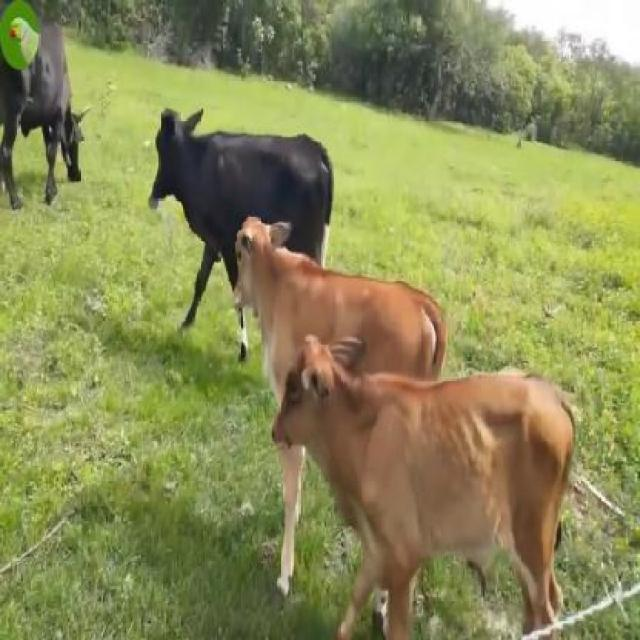Cow: (271, 342, 575, 638), (150, 106, 332, 337), (229, 210, 300, 344)
